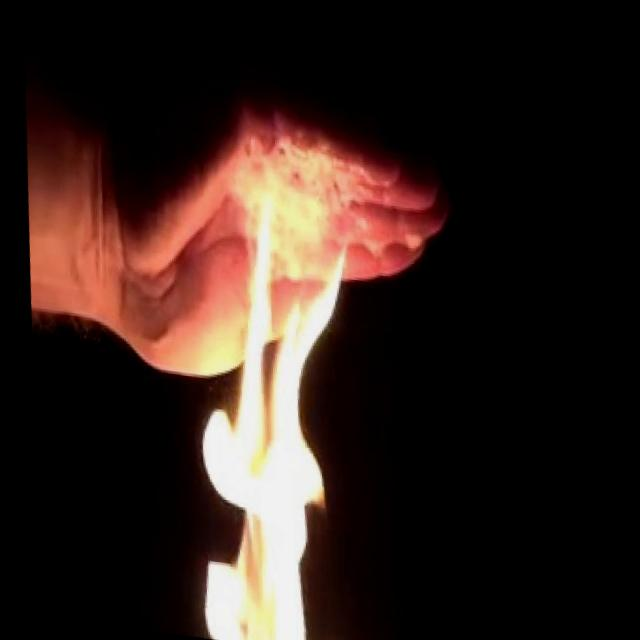Fire: (130, 157, 394, 640)
